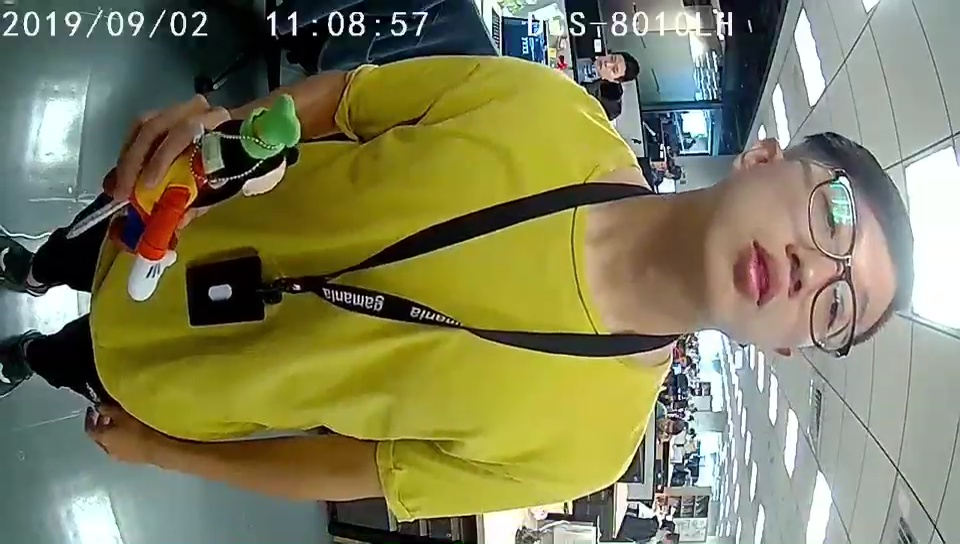goofy: (127, 96, 300, 300)
